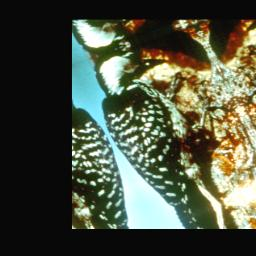Woodpecker: (74, 23, 256, 228)
